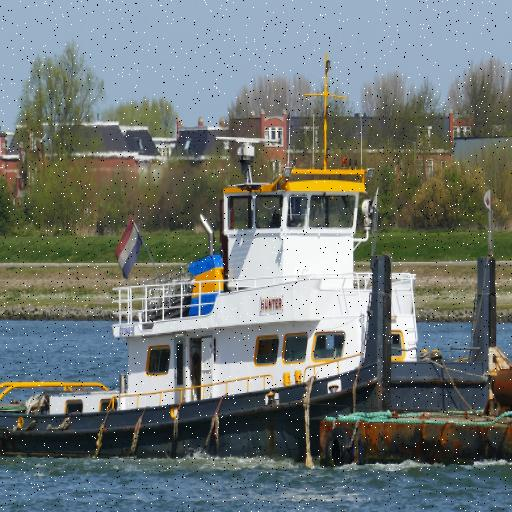tugboat: (1, 48, 507, 479)
